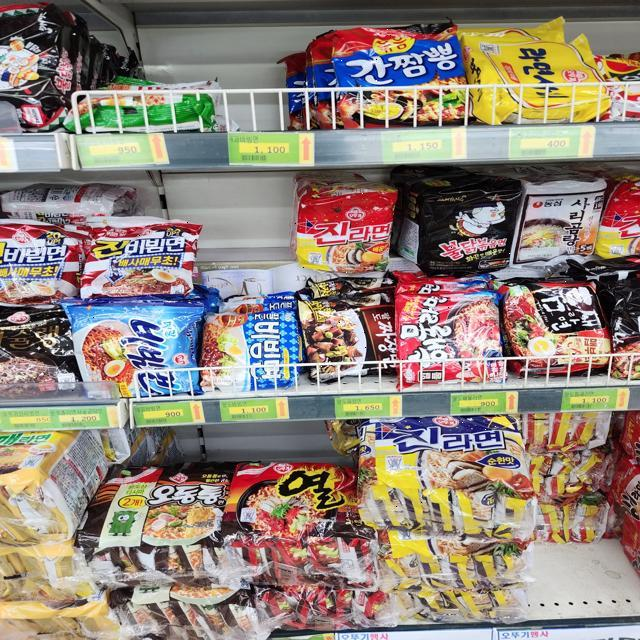product: (362, 407, 544, 513), (224, 444, 374, 551), (461, 27, 612, 124), (88, 451, 228, 550), (328, 25, 470, 121), (67, 304, 194, 399), (388, 287, 508, 386), (501, 281, 615, 373), (512, 171, 606, 278), (79, 211, 196, 295), (412, 182, 515, 276), (199, 305, 300, 391), (294, 185, 387, 277), (299, 303, 403, 375)
